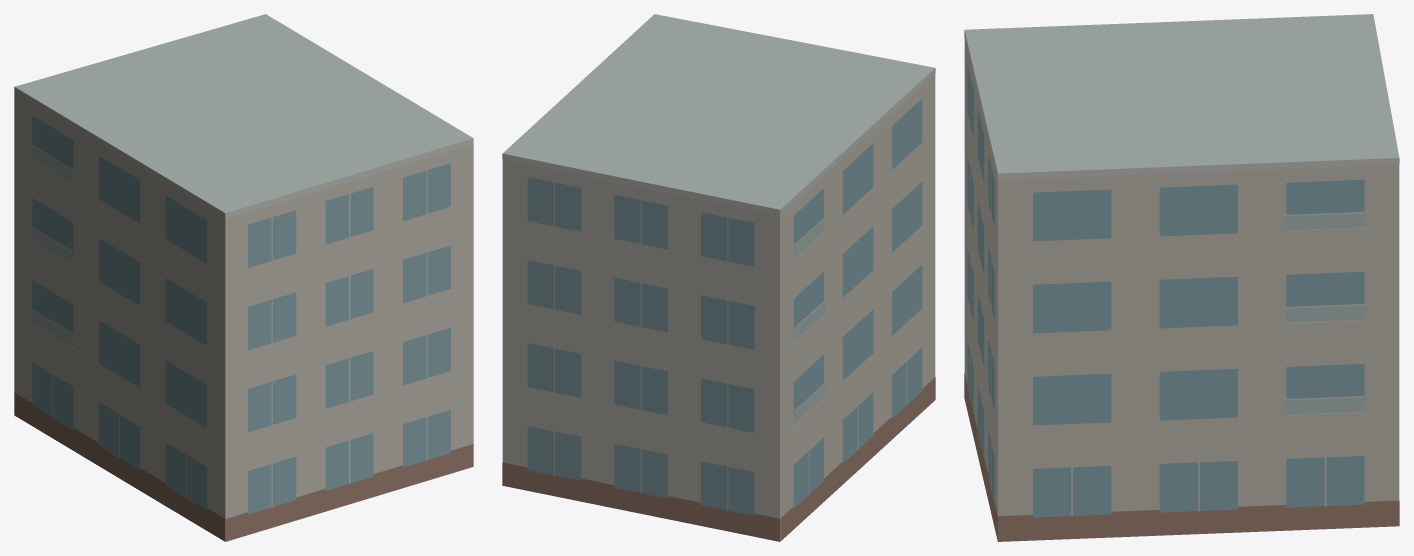
File: survey-upis-32931299.glb
3 renders of one model, left to right at view 1: azimuth 30°, elevation 25°; view 2: azimuth 150°, elevation 25°; view 3: azimuth 270°, elevation 25°, orthographic. The views are drawn at different scales.
Parts seen in each view (by area): view 1: survey-upis-32931299.tmp; view 2: survey-upis-32931299.tmp; view 3: survey-upis-32931299.tmp.
Part boxes in pixels (x1,y1,x2,y2): survey-upis-32931299.tmp: [14, 14, 473, 541]; survey-upis-32931299.tmp: [502, 14, 935, 541]; survey-upis-32931299.tmp: [964, 14, 1399, 541].
Bounding box in the file's own units: 12.27 × 13.2 × 14.14.
